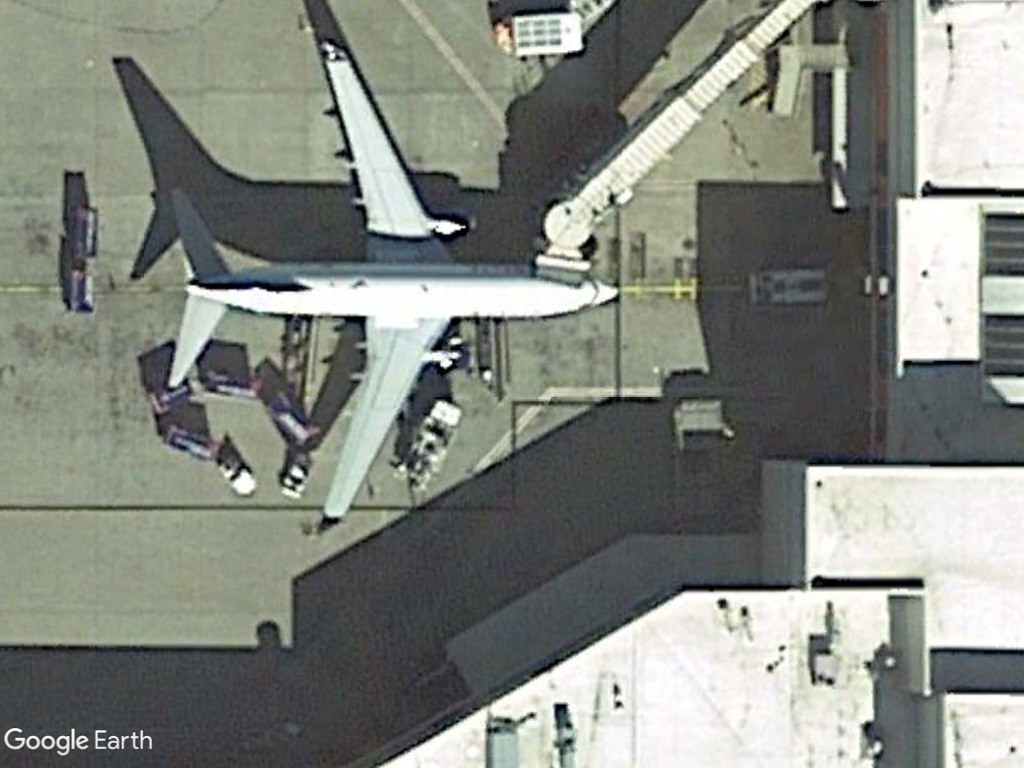airliner: (160, 39, 630, 544)
